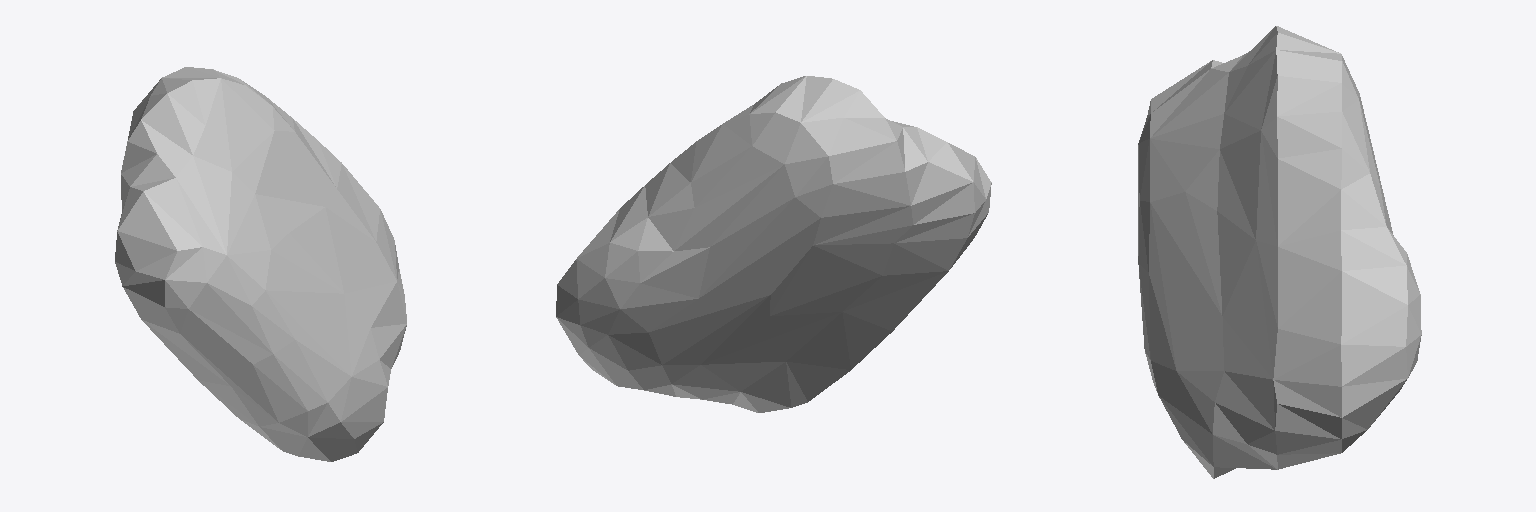
File: right_substantia_nigra.obj
3 renders of one model, left to right at view 1: azimuth 30°, elevation 25°; view 2: azimuth 150°, elevation 25°; view 3: azimuth 270°, elevation 25°, orthographic.
Visible parts, largest first — view 1: right_substantia_nigra_right_substantia_nigra; view 2: right_substantia_nigra_right_substantia_nigra; view 3: right_substantia_nigra_right_substantia_nigra.
Boxes of the visible parts, x1=… form: right_substantia_nigra_right_substantia_nigra: x1=115, y1=67, x2=406, y2=461; right_substantia_nigra_right_substantia_nigra: x1=556, y1=76, x2=991, y2=412; right_substantia_nigra_right_substantia_nigra: x1=1138, y1=26, x2=1421, y2=478.
Bounding box in the file's own units: 0.6307 × 0.665 × 0.4442.